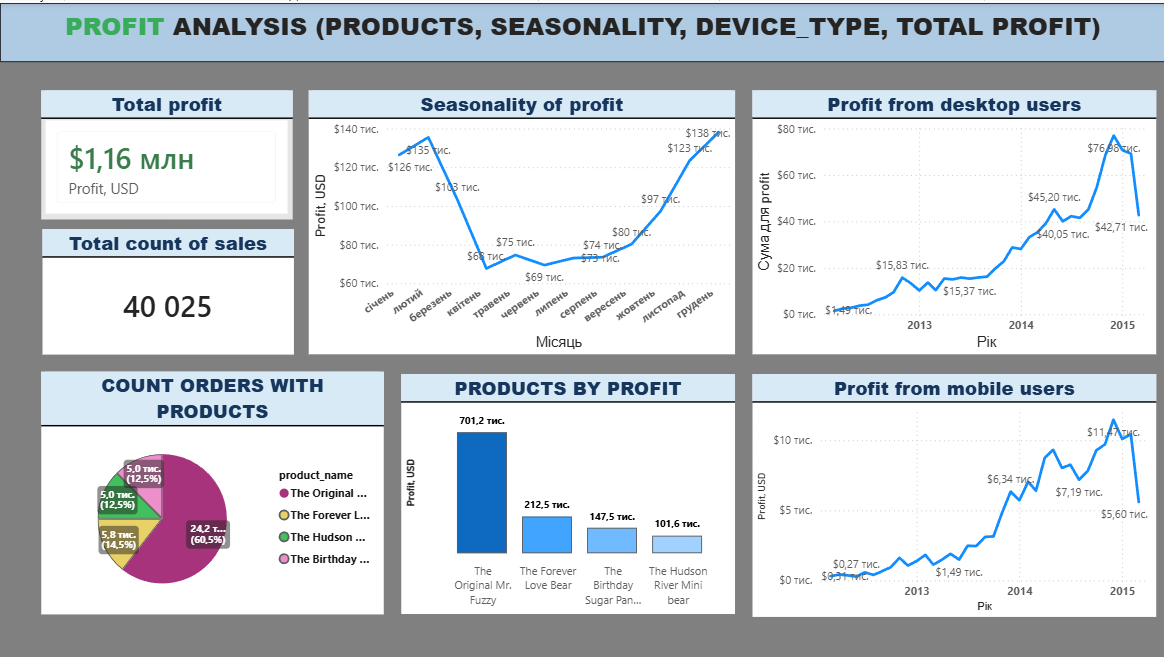

This screenshot's page, from the dashboard's own definition file:
{"tool":"powerbi","page":{"name":"Profit","canvas":[1280,720],"ordinal":0},"visuals":[{"type":"textbox","box":[0,0,1280.3,64.5],"z":0},{"type":"lineChart","title":"Profit from mobile users","fields":{"Category":["orders_profit_usd.created_at_order.Варіація.Ієрархія дат.Рік","orders_profit_usd.created_at_order.Варіація.Ієрархія дат.Місяць"],"Y":["Sum(orders_profit_usd.profit)"]},"box":[826.1,407.5,443.2,266.2],"z":1000},{"type":"lineChart","title":"Seasonality of profit","fields":{"Category":["orders_profit_usd.created_at_order.Варіація.Ієрархія дат.Місяць","orders_profit_usd.created_at_order.Варіація.Ієрархія дат.День"],"Y":["Sum(orders_profit_usd.profit)"]},"box":[338.9,96.1,467.9,289.5],"z":2000},{"type":"cardVisual","title":"Total profit","fields":{"Data":["Sum(orders_profit_usd.profit)"]},"box":[45.3,96.1,275.8,141.3],"z":3000},{"type":"clusteredColumnChart","title":"PRODUCTS BY PROFIT","fields":{"Category":["product_stat.product_name"],"Y":["Sum(product_stat.profit)"]},"box":[440.5,407.5,366.4,263.5],"z":4000},{"type":"lineChart","title":"Profit from desktop users","fields":{"Category":["orders_profit_usd.created_at_order.Варіація.Ієрархія дат.Рік","orders_profit_usd.created_at_order.Варіація.Ієрархія дат.Місяць"],"Y":["Sum(orders_profit_usd.profit)"]},"box":[826.1,96.1,443.2,289.5],"z":5000},{"type":"cardVisual","title":"Total count of sales","fields":{"Data":["CountNonNull(order_info.price_item_usd)"]},"box":[46.7,248.4,275.8,137.2],"z":6000},{"type":"pieChart","title":"COUNT ORDERS WITH  PRODUCTS","fields":{"Category":["order_info.product_name"],"Y":["CountNonNull(order_info.order_id)"]},"box":[45.3,404.8,376,266.2],"z":7000}]}

Visuals, with their boxes in screenshot pixels (x1, y1, x2, y2), scaled from the page's 1280x720 canvas onto the 1164x657 screenshot:
textbox: locate(0, 0, 1163, 59)
"Profit from mobile users" lineChart: locate(751, 372, 1154, 615)
"Seasonality of profit" lineChart: locate(308, 88, 734, 352)
"Total profit" cardVisual: locate(41, 88, 292, 217)
"PRODUCTS BY PROFIT" clusteredColumnChart: locate(401, 372, 734, 612)
"Profit from desktop users" lineChart: locate(751, 88, 1154, 352)
"Total count of sales" cardVisual: locate(42, 227, 293, 352)
"COUNT ORDERS WITH  PRODUCTS" pieChart: locate(41, 369, 383, 612)
